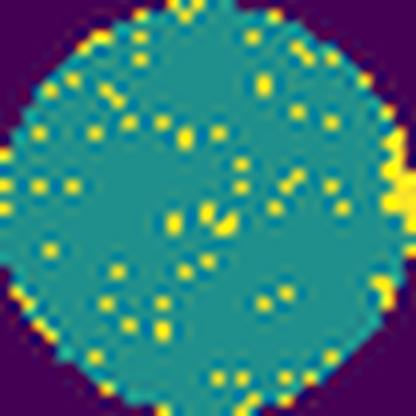Edge-Loc: (375, 127, 416, 232)
